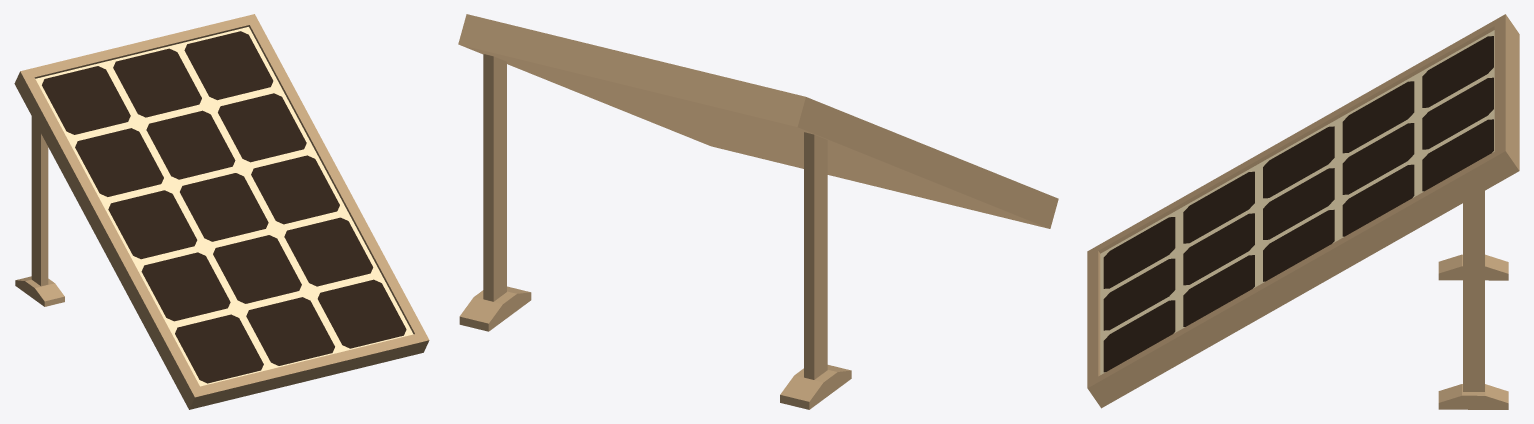
File: low-solar.glb
3 renders of one model, left to right at view 1: azimuth 30°, elevation 25°; view 2: azimuth 150°, elevation 25°; view 3: azimuth 270°, elevation 25°, orthographic. The views are drawn at different scales.
Visible parts, largest first — view 1: SolarPanel_Ground; view 2: SolarPanel_Ground; view 3: SolarPanel_Ground.
Part boxes in pixels (x1=…): SolarPanel_Ground: x1=14, y1=14, x2=429, y2=409; SolarPanel_Ground: x1=458, y1=14, x2=1058, y2=409; SolarPanel_Ground: x1=1087, y1=14, x2=1519, y2=409.
Bounding box in the file's own units: 1.29 × 1.1 × 1.67.
Materials: 1 (1 with a texture image).
